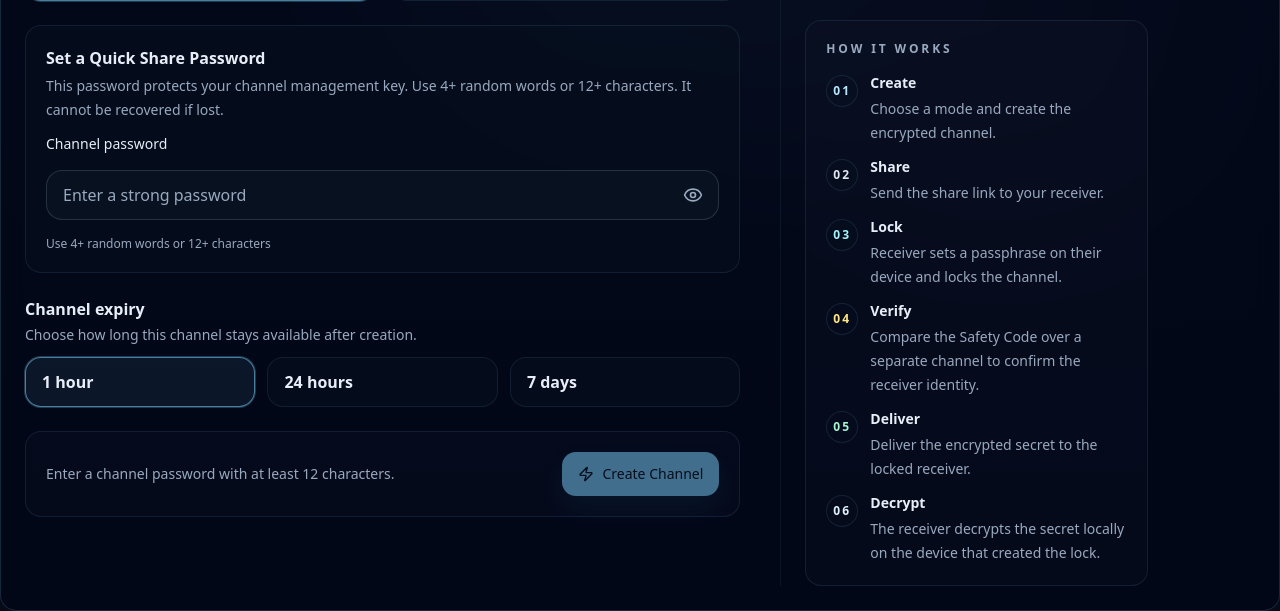
Test: CreatePage integration › defaults to 1 hour TTL and lets the user switch presets
(page scrolled)
Expected: the element showing "1 hour 24 hours 7 days" is shown, 25,357 -> 740,407
Expected: the radio button with test id "create-ttl-one-hour" is checked, 25,357 -> 255,407
Click the radio button with test id "create-ttl-seven-days".
click(625, 382)  # box 510,357 -> 740,407
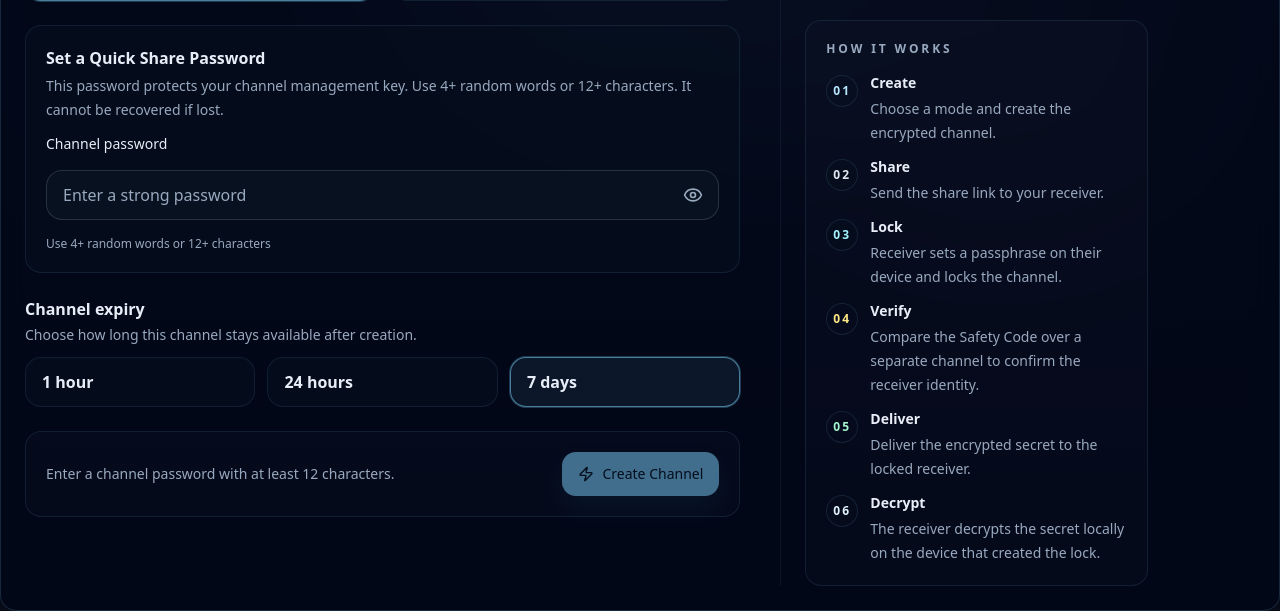
Now the radio button with test id "create-ttl-seven-days" is checked, box 510,357 -> 740,407
Now the radio button with test id "create-ttl-one-hour" is not checked, box 25,357 -> 255,407
